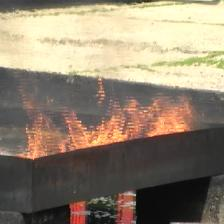fire: (0, 76, 194, 161)
